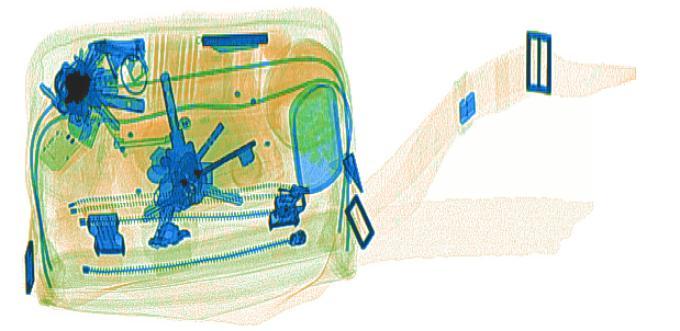knife: (195, 33, 268, 54)
